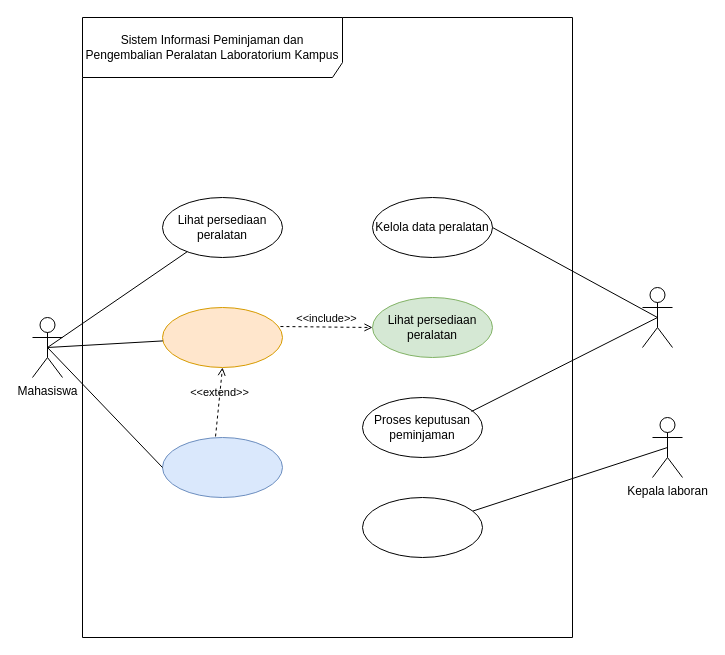
Image size: 725x655. Some labels were removed from this diagram. Each missing label, with the centre of its shape:
Ajukan peminjaman: point 222,337
Cetak bukti pengajuan: point 222,467
Lihat laporan peminjaman: point 422,527
Petugas Laboran: point 657,317
